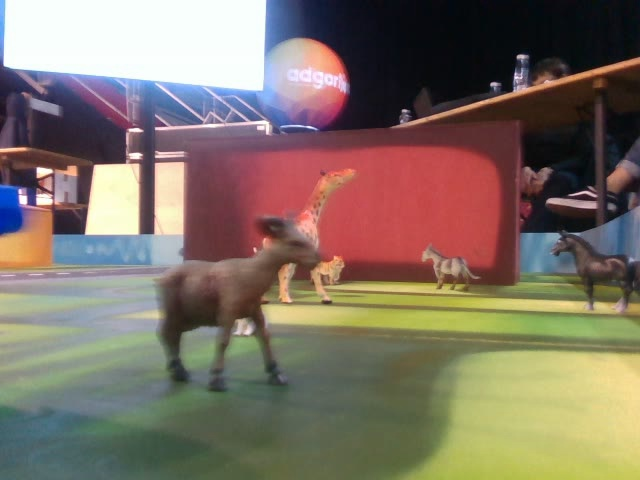toy: (548, 221, 640, 317), (419, 242, 492, 295)
